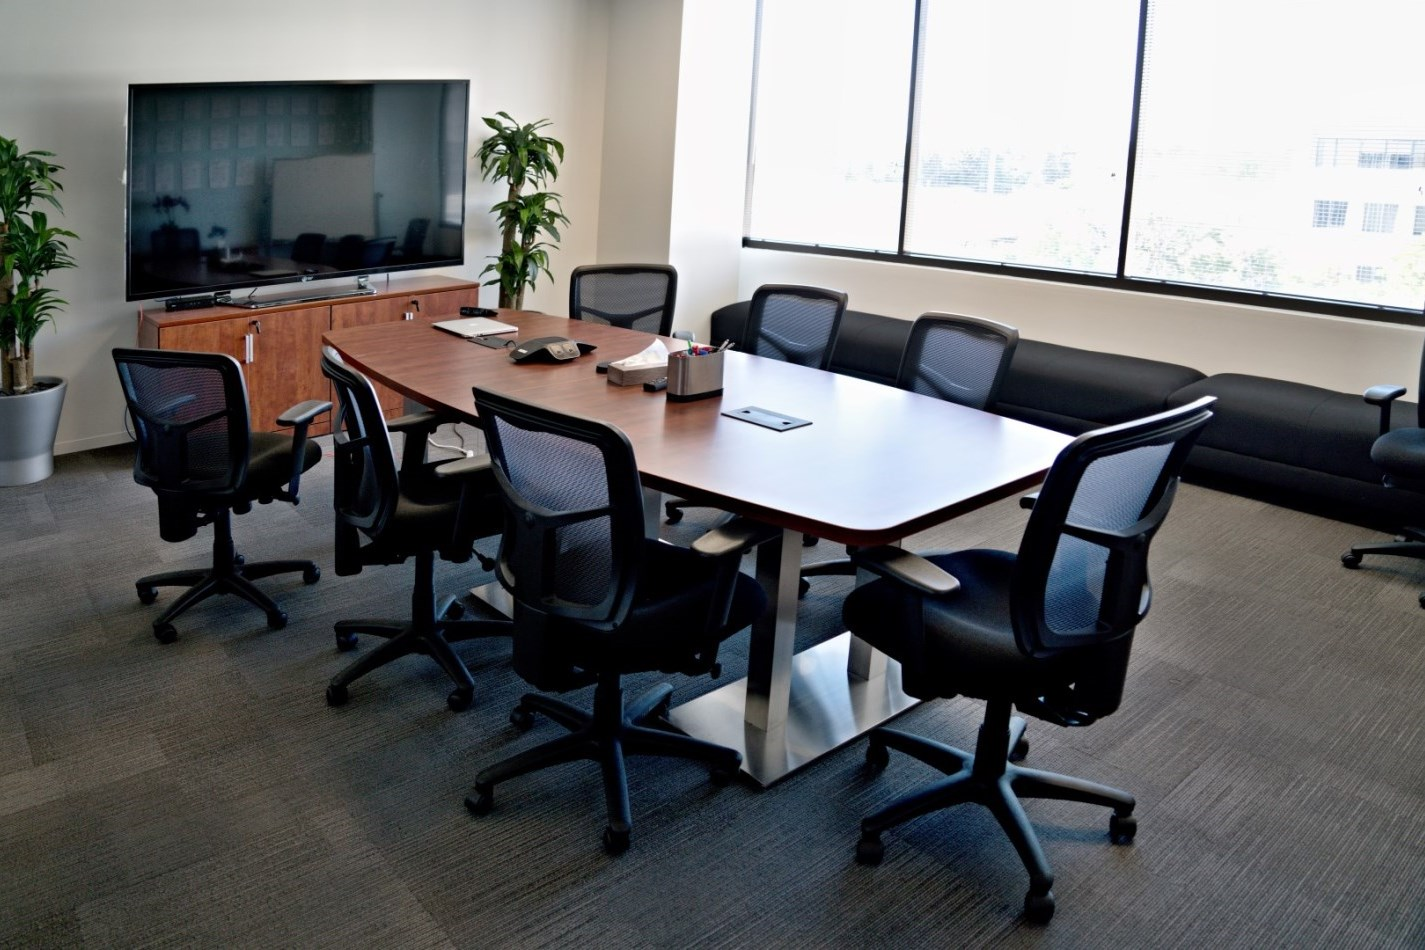conference_table: (322, 308, 1085, 787)
